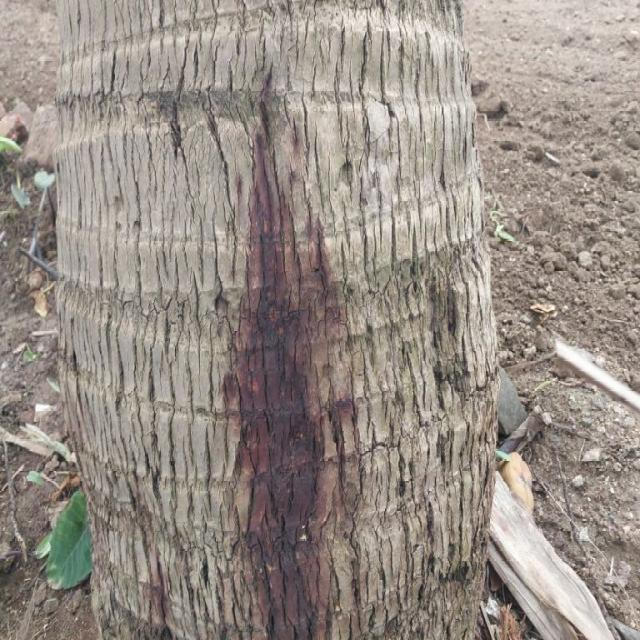stembleeding: (167, 38, 421, 640)
